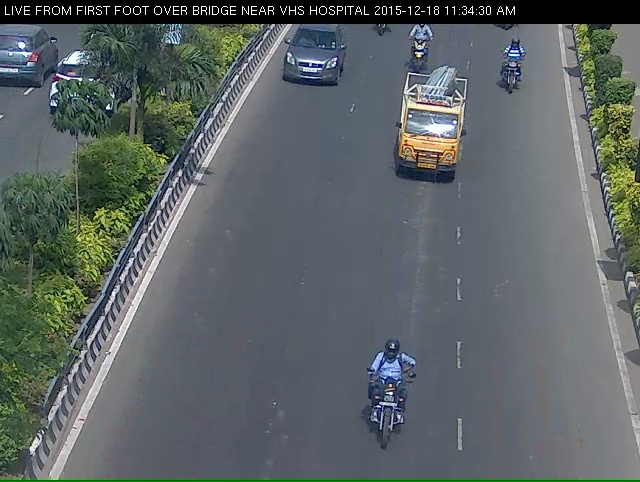Bus: (379, 84, 489, 211)
Car: (273, 25, 350, 97)
Person: (357, 347, 421, 477), (499, 39, 530, 106), (404, 33, 434, 81)
